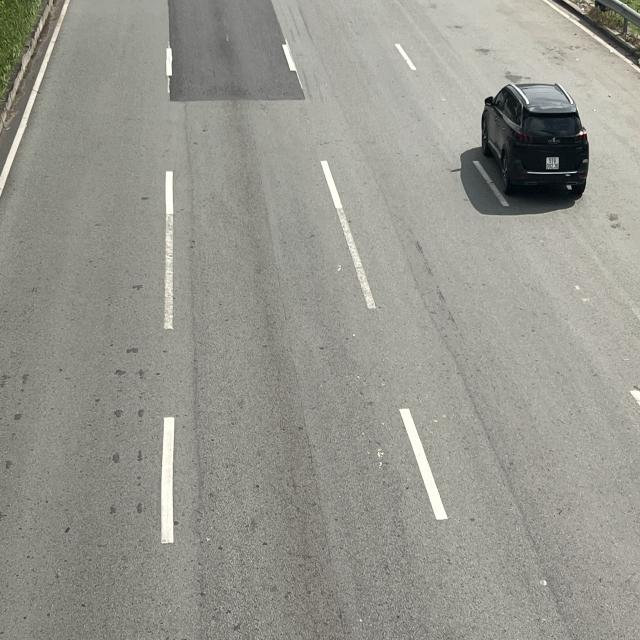car: (480, 80, 590, 194)
